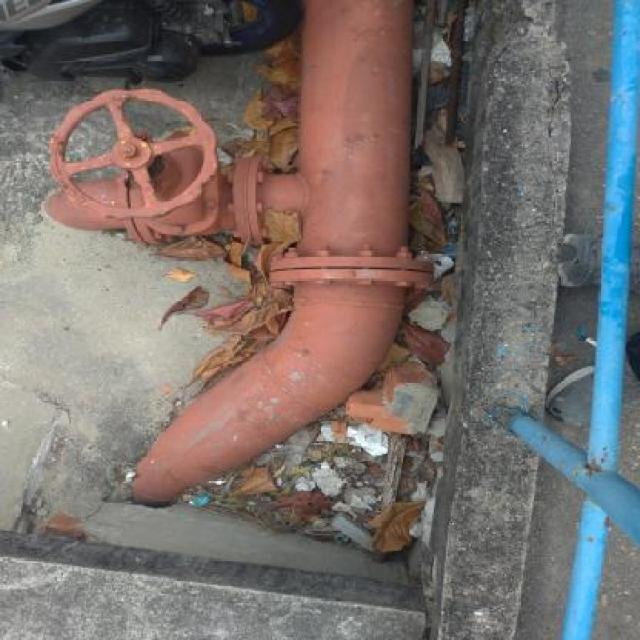gas: (151, 0, 417, 505)
